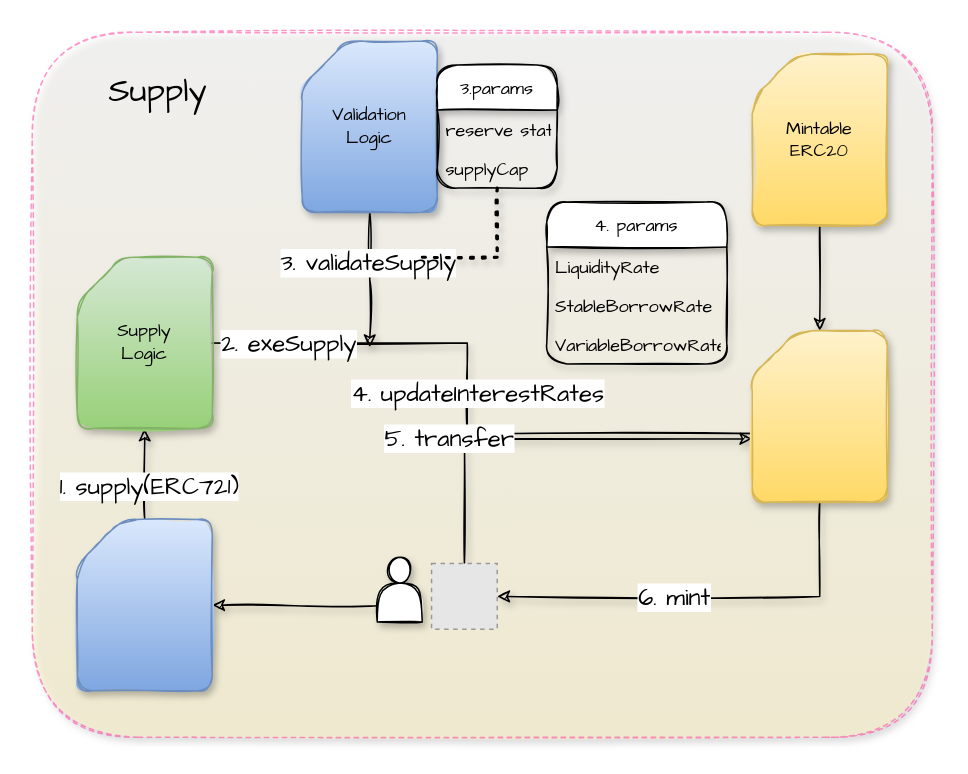
Image size: 968x774. Some labels were removed from this diagram. Grey dashed boxes stand in for pictures. Here are the shapes that lost their labels. From the top down, the centre of each, then its label:
At point 820,418: "PToken".
At point 145,606: "Pool".
